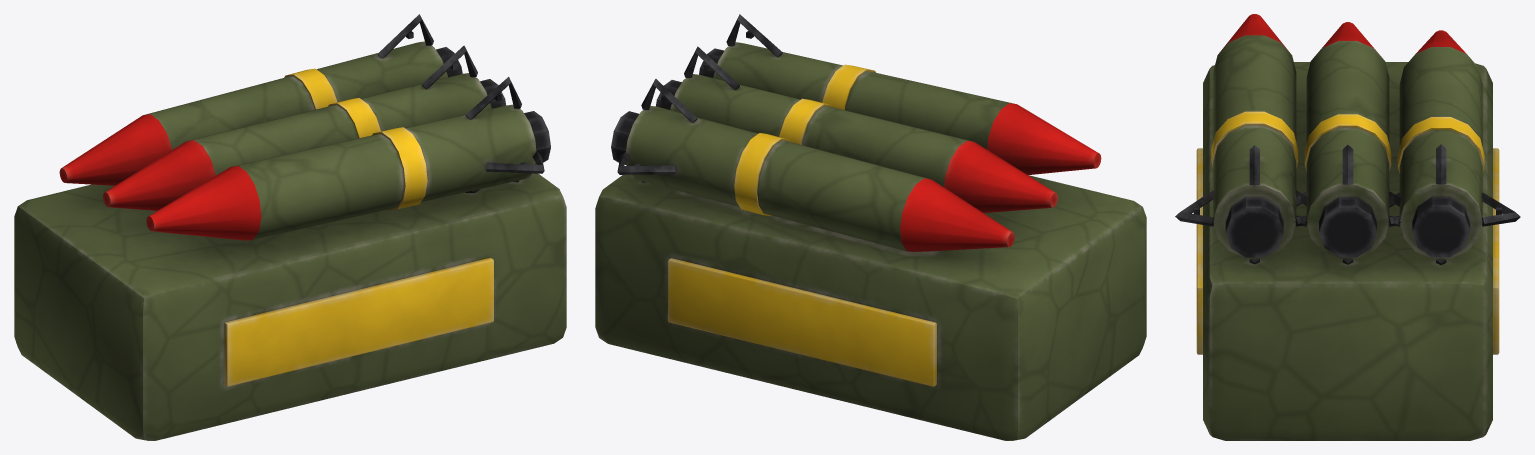
Rendered from pk_rocketbox.glb.
The picture shows the model from 3 angles, left to right: view 1: azimuth 30°, elevation 25°; view 2: azimuth 150°, elevation 25°; view 3: azimuth 270°, elevation 25°; orthographic projection. The views are drawn at different scales.
Parts seen in each view (by area): view 1: pk_rocketbox; view 2: pk_rocketbox; view 3: pk_rocketbox.
Boxes of the visible parts, <box> form: pk_rocketbox: <box>14,14,566,440</box>; pk_rocketbox: <box>595,14,1146,440</box>; pk_rocketbox: <box>1175,14,1520,440</box>.
Size of the model in its own units: 0.8125 by 0.4707 by 0.5219.
1 material, 1 textured.
